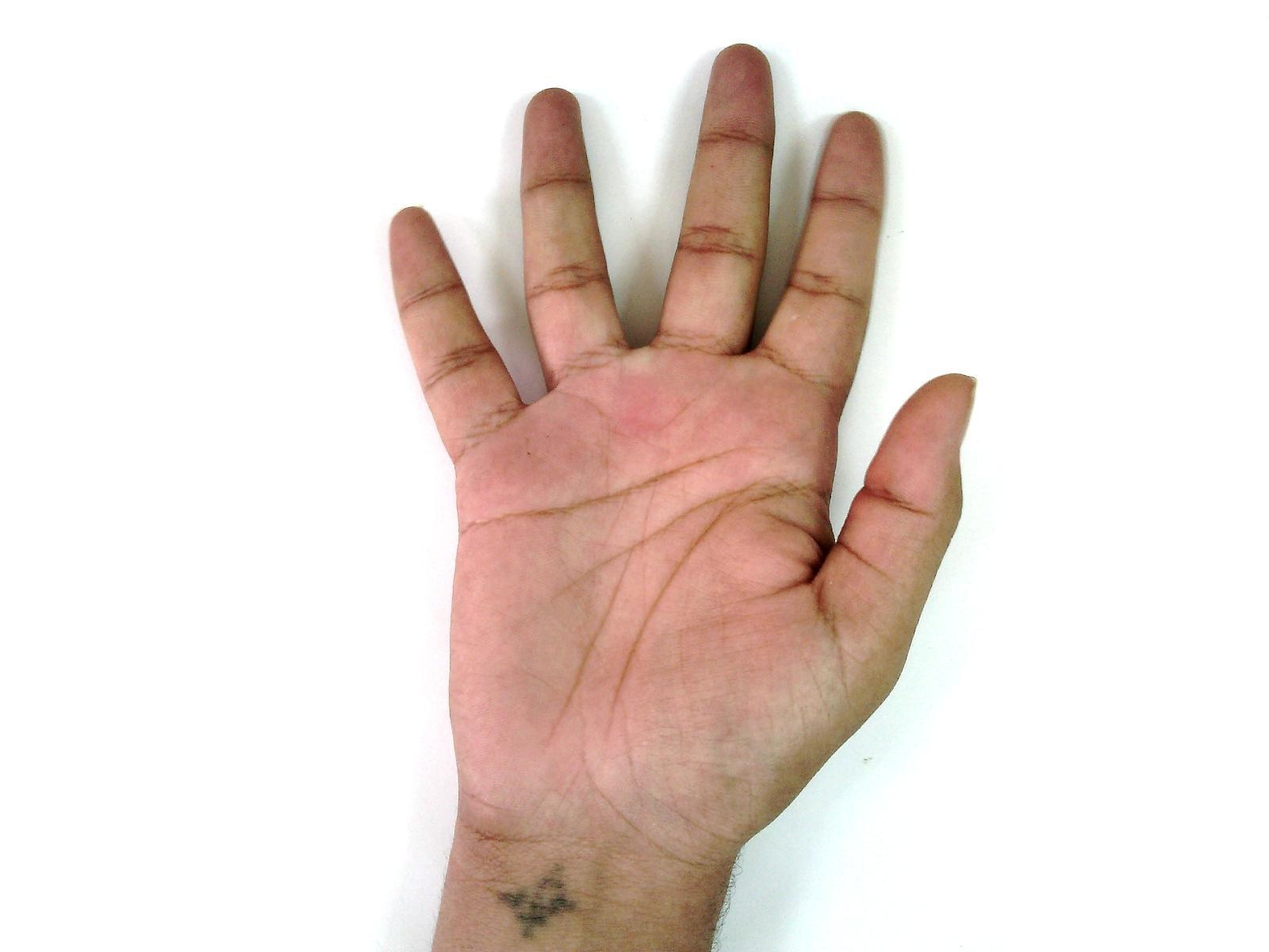open_palm: (384, 43, 978, 869)
